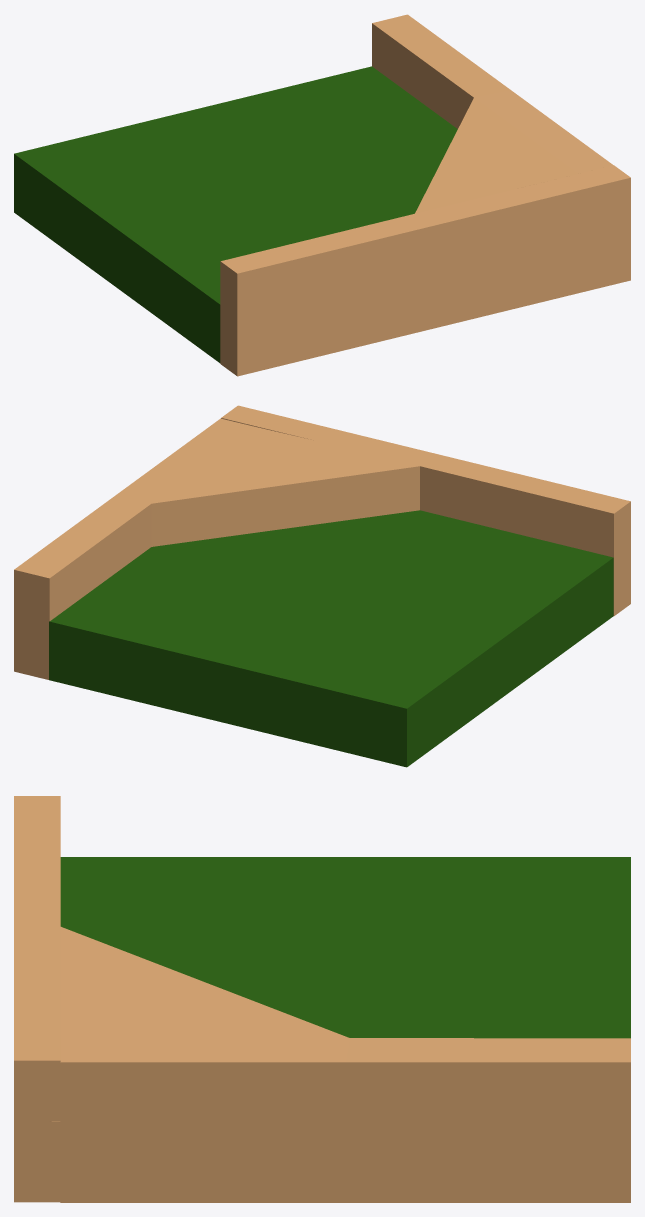
File: TestCornerfix2.fbx
The picture shows the model from 3 angles, top to bottom: view 1: azimuth 30°, elevation 25°; view 2: azimuth 150°, elevation 25°; view 3: azimuth 270°, elevation 25°; orthographic projection. The views are drawn at different scales.
Parts seen in each view (by area): view 1: Cube.030, Cube.032; view 2: Cube.032, Cube.030; view 3: Cube.030, Cube.032.
Part boxes in pixels (bbox=[...]): Cube.030: bbox=[220, 14, 630, 376]; Cube.032: bbox=[14, 66, 457, 362]; Cube.032: bbox=[49, 510, 613, 767]; Cube.030: bbox=[14, 405, 630, 679]; Cube.030: bbox=[14, 796, 630, 1202]; Cube.032: bbox=[60, 857, 630, 1038].
Size of the model in its own units: 168 by 42.06 by 166.
